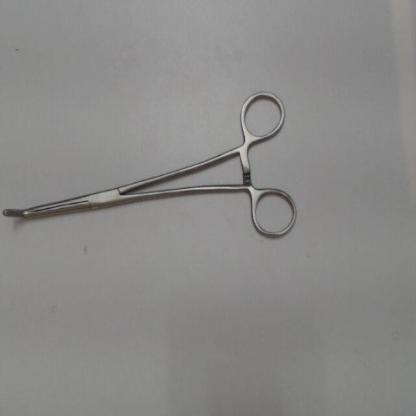Lahey Forceps: (0, 85, 303, 247)
